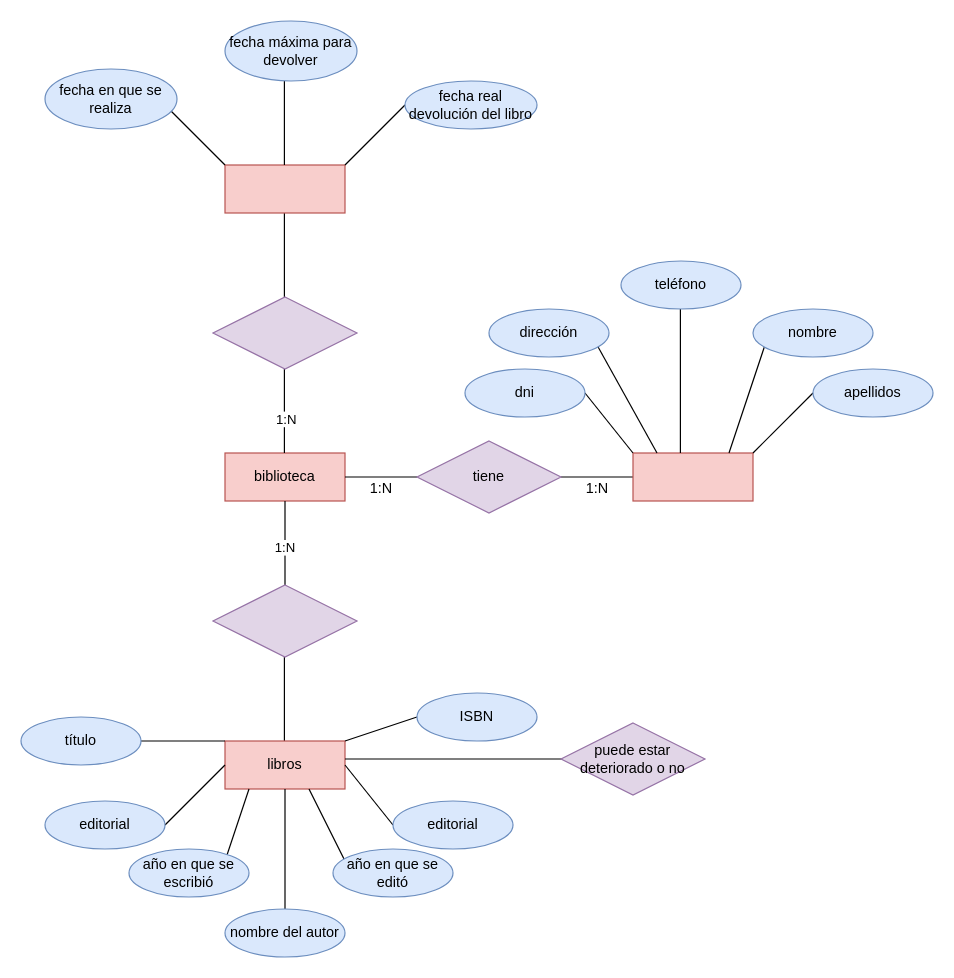
This 954x978 diagram has some shape labels left out. Here are the shapes that lost their labels. From the top down, the box of each, then its label:
(224, 164, 345, 213): prestamos
(212, 296, 357, 369): hace
(632, 452, 753, 501): socios
(212, 584, 357, 657): almacena
